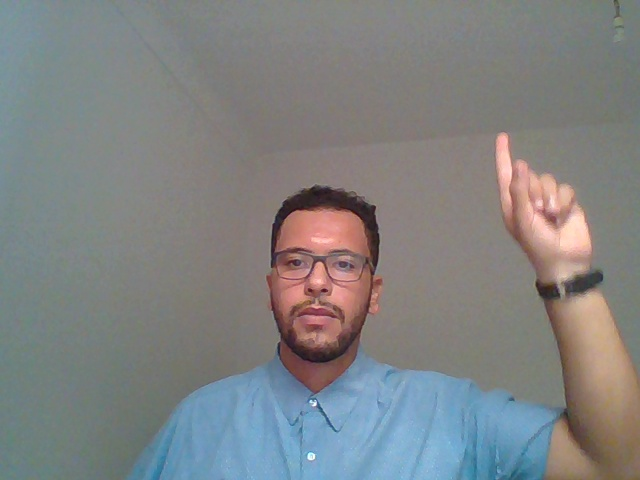handup: (465, 116, 635, 448)
